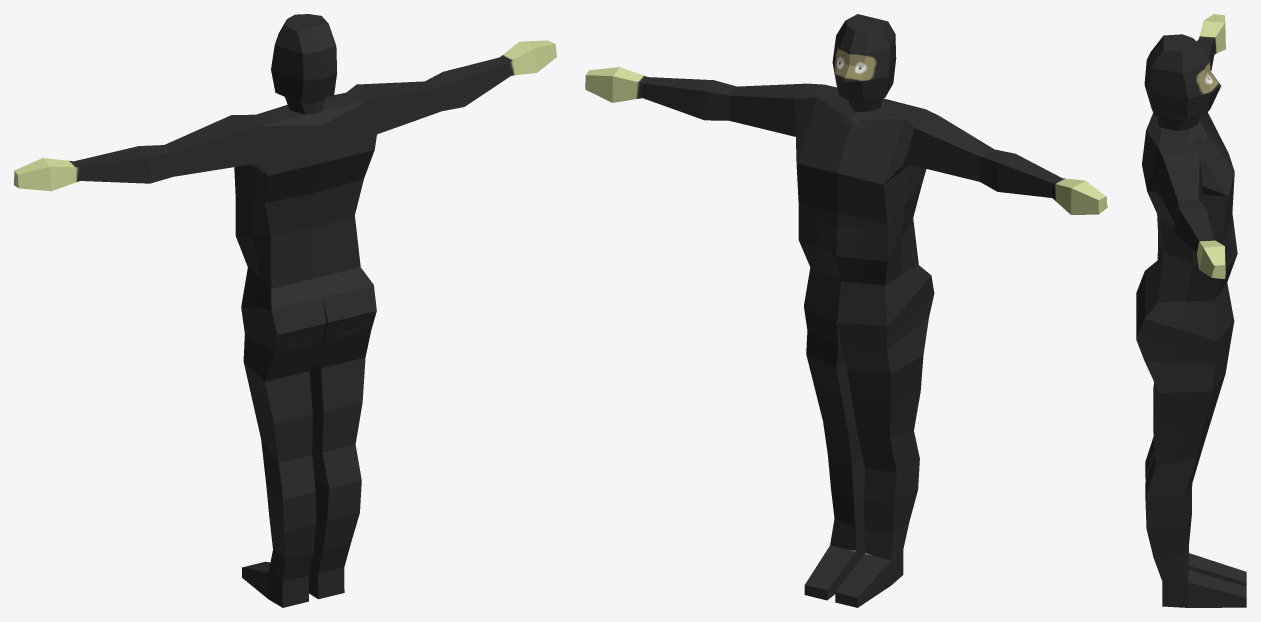
The picture shows the model from 3 angles, left to right: view 1: azimuth 30°, elevation 25°; view 2: azimuth 150°, elevation 25°; view 3: azimuth 270°, elevation 25°; orthographic projection. The views are drawn at different scales.
Visible parts, largest first — view 1: Player_Body; view 2: Player_Body; view 3: Player_Body.
Part boxes in pixels (x1,y1,x2,y2): Player_Body: (14, 14, 556, 607); Player_Body: (585, 14, 1107, 607); Player_Body: (1136, 14, 1246, 607).
Bounding box in the file's own units: 441 × 450 × 81.66.
1 material, 1 textured.
